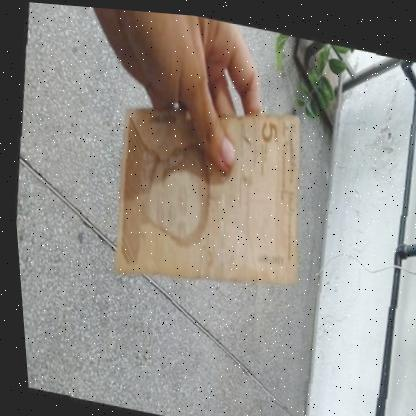five-front-vef: (98, 76, 314, 308)
